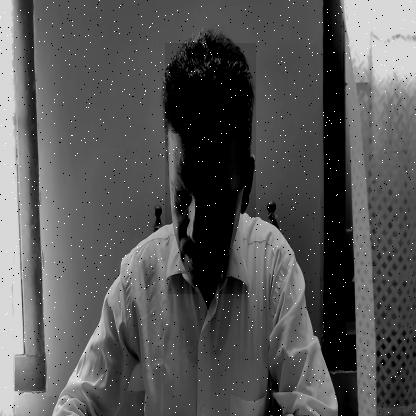Normal: (165, 43, 256, 294)
